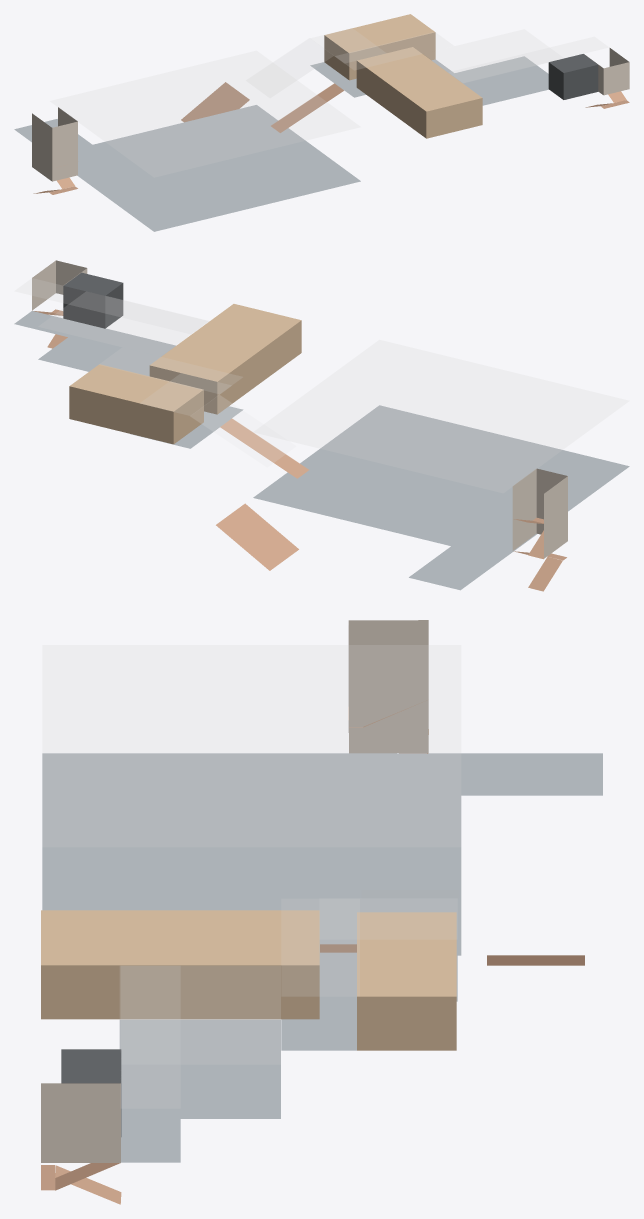
3 renders of one model, top to bottom at view 1: azimuth 30°, elevation 25°; view 2: azimuth 150°, elevation 25°; view 3: azimuth 270°, elevation 25°, orthographic. The views are drawn at different scales.
Parts seen in each view (by area): view 1: Cube.012, Cube.020, Cube.017, Cube.022, 立方體.172, Cube, 立方體.174, 立方體.183, 平面.001, 立方體.170, 立方體.003, 立方體.180 (+8 smaller); view 2: Cube.012, Cube.020, Cube.022, Cube, 立方體.172, 立方體.174, Cube.017, 立方體.183, 平面.001, 立方體.170, 立方體.003, 立方體.001 (+9 smaller); view 3: Cube.012, Cube.020, Cube, 立方體.172, 立方體.174, Cube.022, Cube.017, 平面.001, 立方體.003, 立方體.180, Cube.021, 立方體.177 (+6 smaller).
Boxes of the visible parts, x1=… form: Cube.012: x1=50, y1=51, x2=359, y2=176; Cube.020: x1=77, y1=105, x2=360, y2=231; Cube.017: x1=396, y1=76, x2=482, y2=138; Cube.022: x1=324, y1=14, x2=435, y2=80; 立方體.172: x1=424, y1=29, x2=562, y2=82; Cube: x1=356, y1=47, x2=452, y2=116; 立方體.174: x1=451, y1=56, x2=548, y2=105; 立方體.183: x1=247, y1=38, x2=332, y2=97; 平面.001: x1=449, y1=37, x2=607, y2=82; 立方體.170: x1=548, y1=54, x2=598, y2=99; 立方體.003: x1=335, y1=32, x2=452, y2=69; 立方體.180: x1=32, y1=107, x2=77, y2=154; Cube.012: x1=254, y1=340, x2=628, y2=492; Cube.020: x1=253, y1=405, x2=629, y2=557; Cube.022: x1=69, y1=364, x2=203, y2=444; Cube: x1=149, y1=330, x2=265, y2=414; 立方體.172: x1=39, y1=292, x2=208, y2=355; 立方體.174: x1=38, y1=325, x2=175, y2=376; Cube.017: x1=198, y1=304, x2=301, y2=379; 立方體.183: x1=191, y1=395, x2=295, y2=466; 平面.001: x1=15, y1=278, x2=207, y2=333; 立方體.170: x1=63, y1=272, x2=123, y2=328; 立方體.003: x1=99, y1=348, x2=242, y2=393; 立方體.001: x1=216, y1=503, x2=298, y2=570; Cube.012: x1=43, y1=645, x2=460, y2=846; Cube.020: x1=42, y1=753, x2=461, y2=955; Cube: x1=160, y1=910, x2=319, y2=1019; 立方體.172: x1=120, y1=966, x2=280, y2=1063; 立方體.174: x1=119, y1=1019, x2=280, y2=1118; Cube.022: x1=357, y1=912, x2=456, y2=1050; Cube.017: x1=41, y1=910, x2=160, y2=1019; 平面.001: x1=121, y1=966, x2=179, y2=1107; 立方體.003: x1=282, y1=899, x2=359, y2=995; 立方體.180: x1=348, y1=620, x2=428, y2=699; Cube.021: x1=453, y1=753, x2=602, y2=795; 立方體.177: x1=41, y1=1083, x2=120, y2=1162.
Bounding box in the file's own units: 58.07 × 9 × 28.19.
